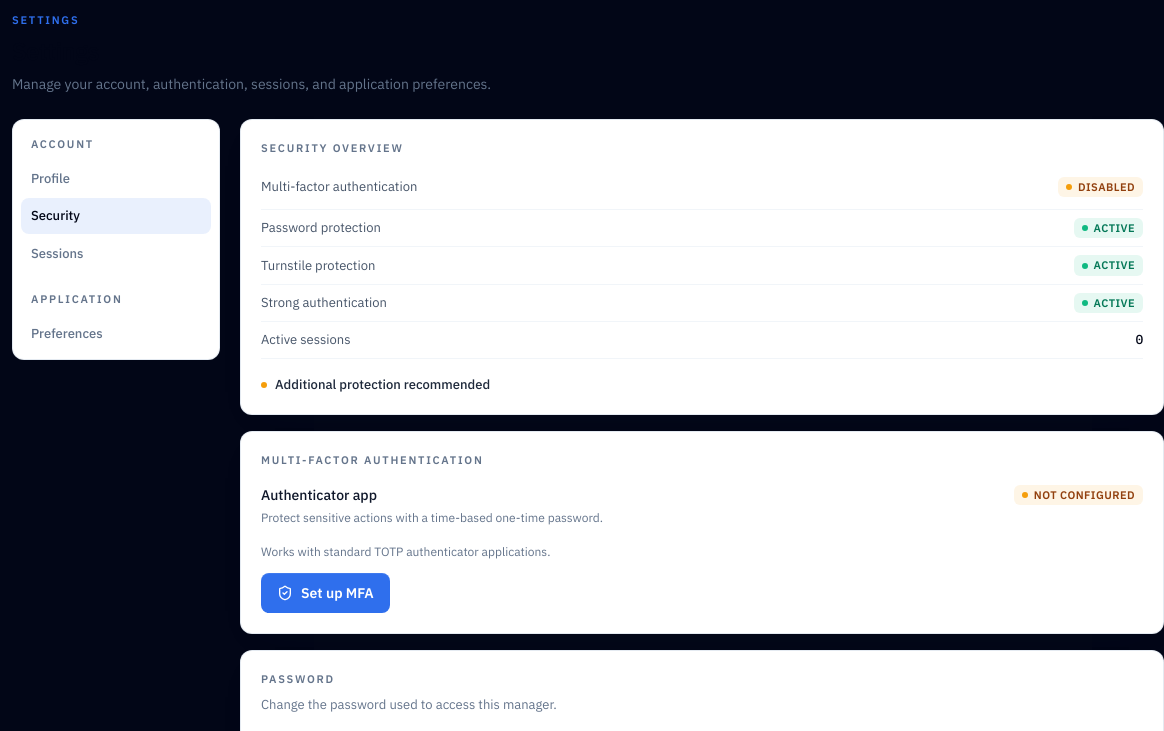
Test: Settings page › keeps Settings usable when sessions fail to load
This screenshot has width=1164, height=731.
Expected: the text "Security overview" is shown, [261,141,404,155]
Click the button "Sessions" at (116, 254), box [21,236,211,271]
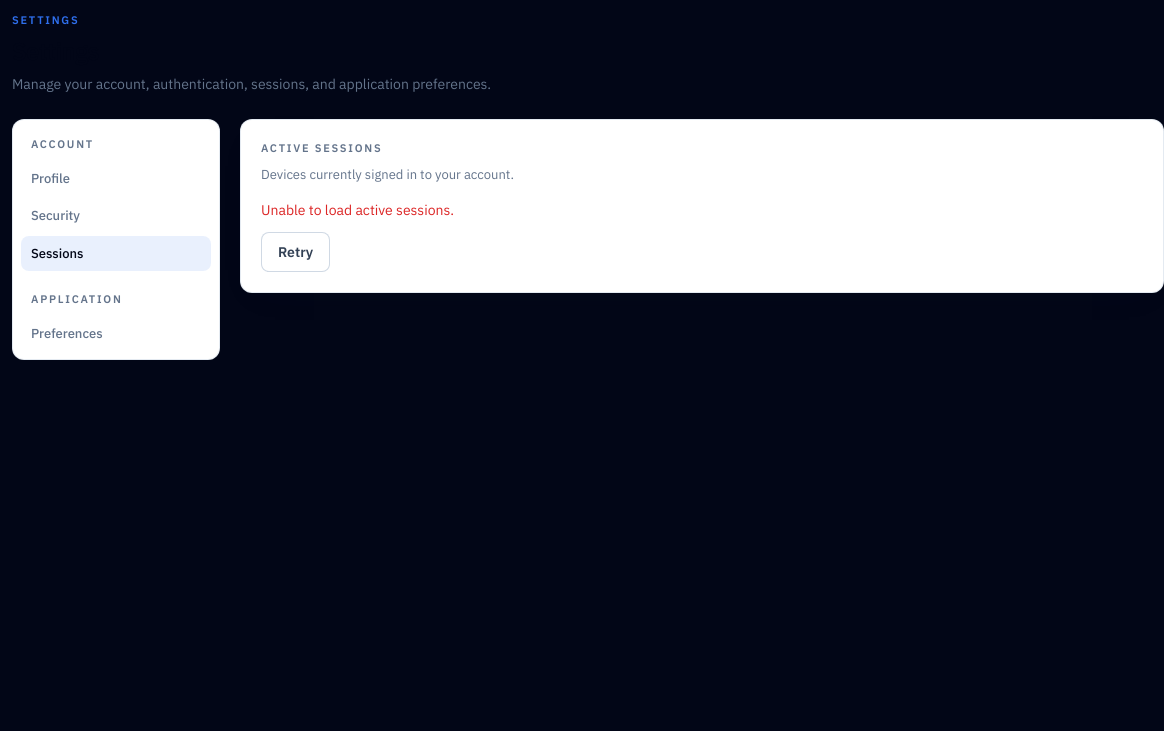
Expected: the text "Unable to load active sessions." is shown, [261,201,454,219]
Expected: the button "Retry" is shown, [261,232,330,272]
